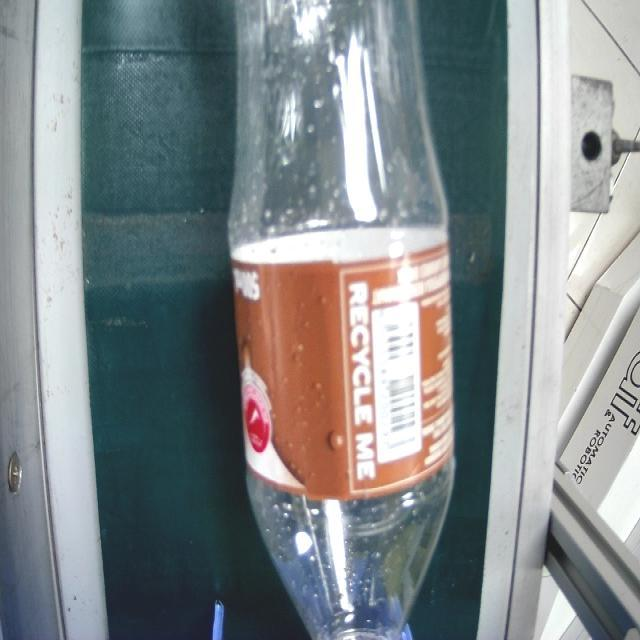Pet_Bottle: (223, 0, 459, 640)
